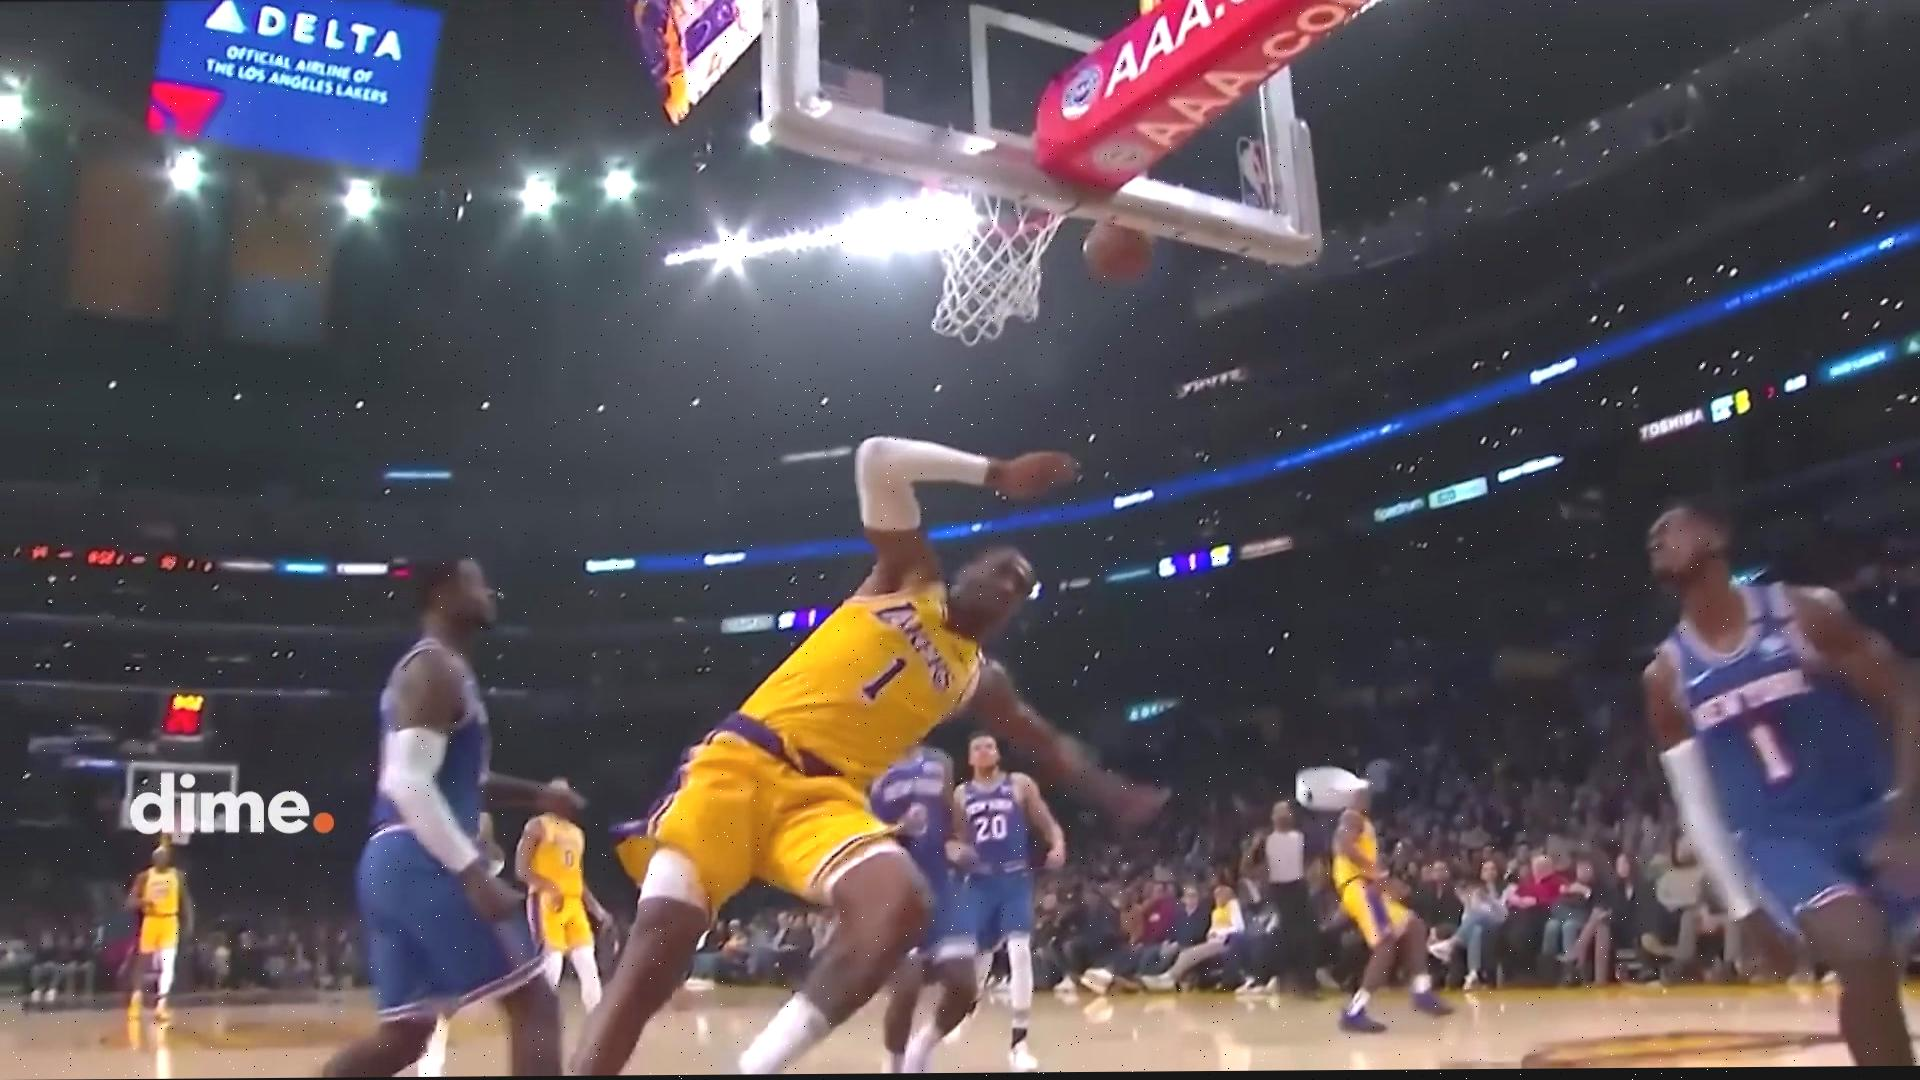no_foul: (617, 415, 1156, 1076)
